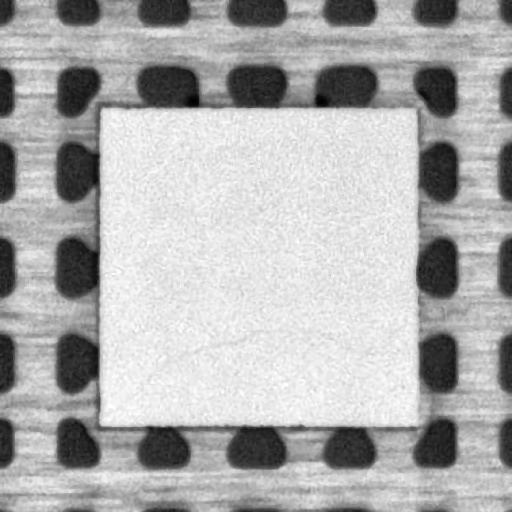DIE_CRACK: (136, 324, 292, 378)
